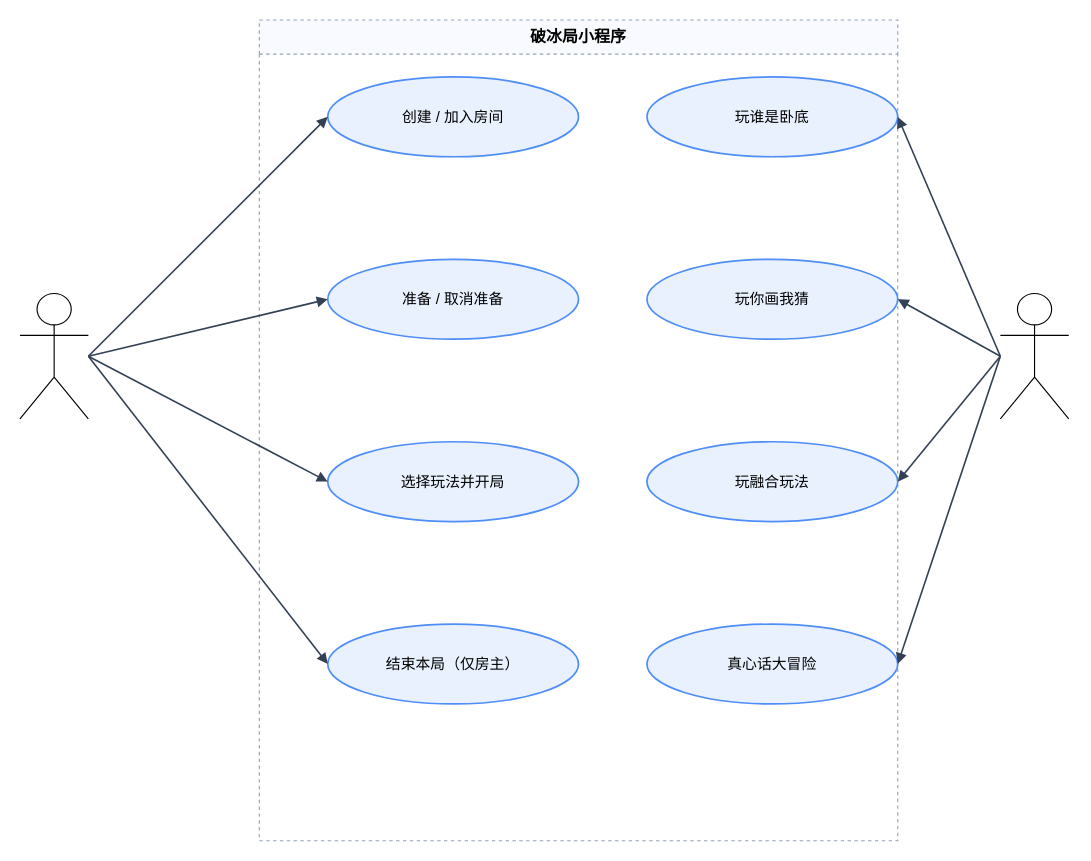
The diagram is 1091 pixels wide and 861 high, and some of its shapes have lost their labels. Each missing label, with the centre of its shape:
"房主" goes at (x=53, y=355).
"普通参与者" goes at (x=1034, y=355).
